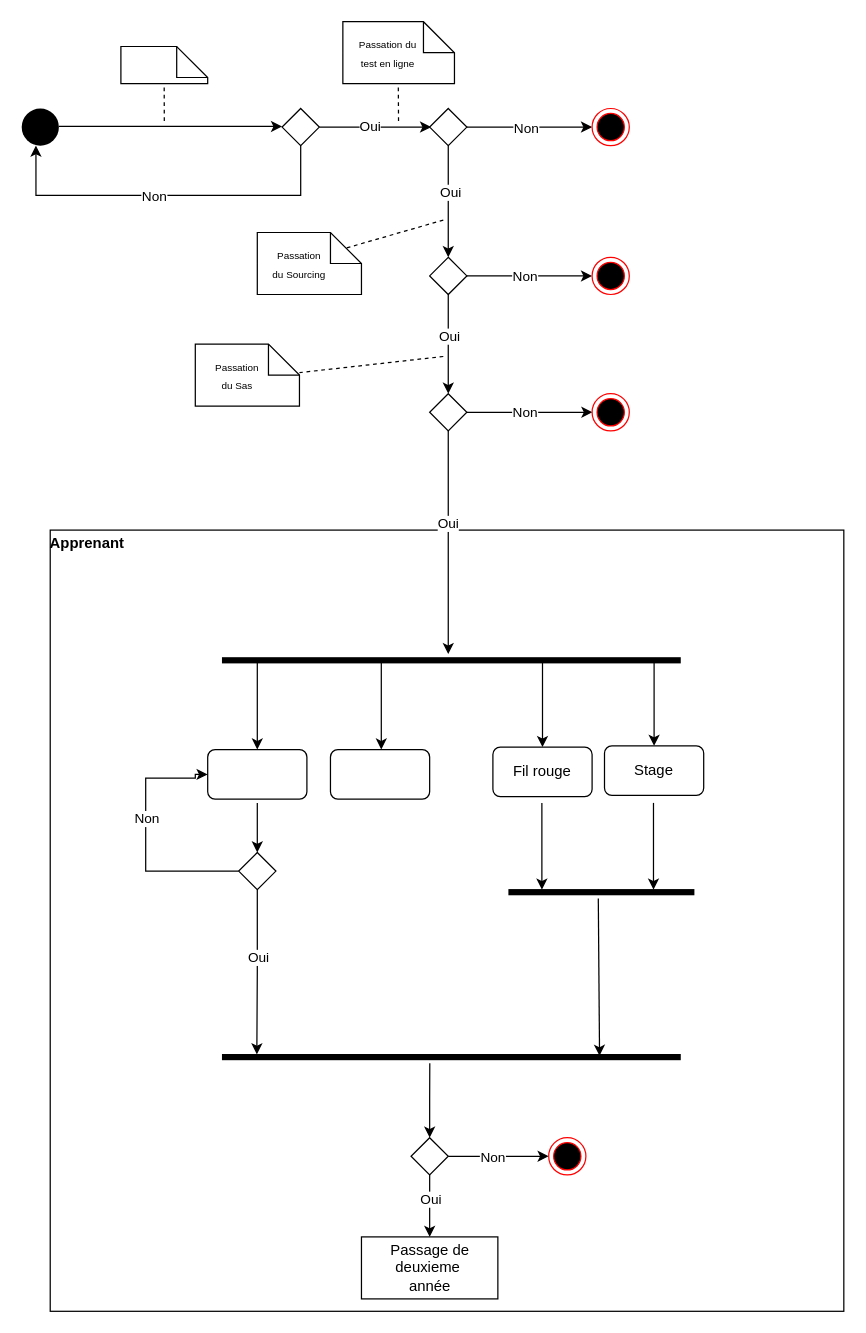
Some shapes in this 866 by 1333 pixel diagram are drawn without their labels. The shapes that lost their labels are listed below. From the top down, each one's centre as x and y in pixels, then its label:
point (164, 64): Inscription
point (256, 773): Briefs
point (379, 773): Sujet de veille
